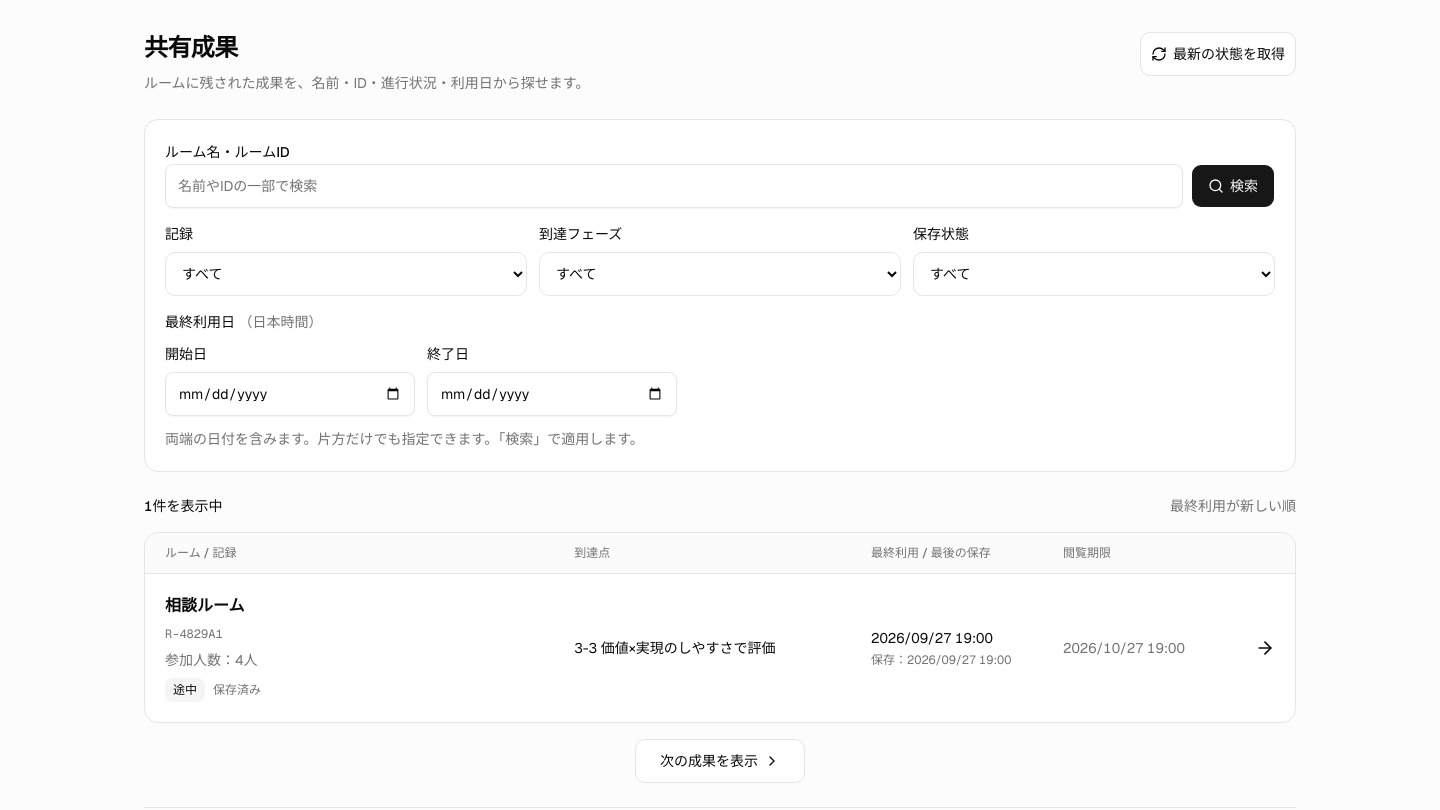
Test: 追加取得時の認可拒否でも成果を隠し、権限エラーを表示する
Expected: the link "相談ルーム" is shown, [145, 574, 1295, 722]
Click the button "次の成果を表示".
click(720, 760)  # box [635, 738, 805, 782]
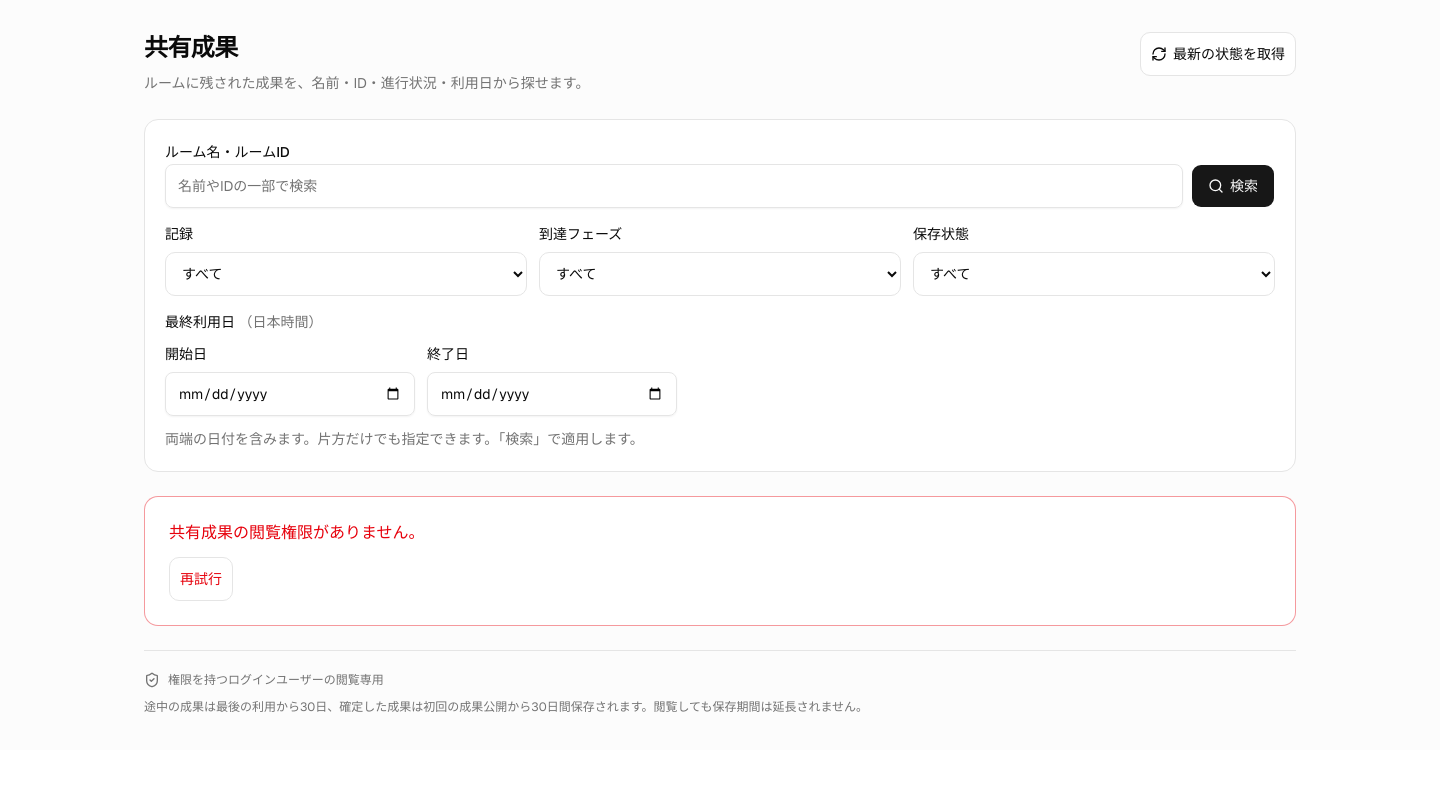
Expected: the message "共有成果の閲覧権限がありません。 再試行" is shown, [144, 496, 1296, 626]
Expected: the link "相談ルーム" is gone
